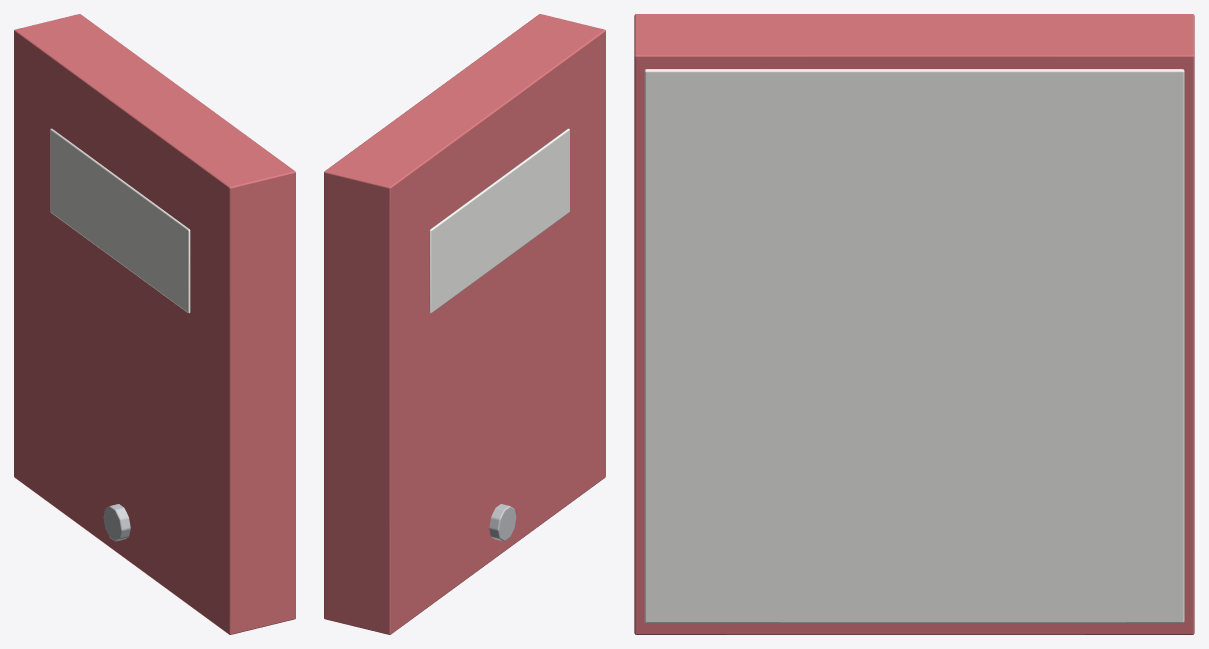
The model's file is SM_BinderRed.fbx.
The picture shows the model from 3 angles, left to right: view 1: azimuth 30°, elevation 25°; view 2: azimuth 150°, elevation 25°; view 3: azimuth 270°, elevation 25°; orthographic projection. The views are drawn at different scales.
Parts seen in each view (by area): view 1: SM_BinderRed; view 2: SM_BinderRed; view 3: SM_BinderRed.
Part boxes in pixels (x1=…): SM_BinderRed: x1=14, y1=14, x2=295, y2=634; SM_BinderRed: x1=324, y1=14, x2=605, y2=634; SM_BinderRed: x1=634, y1=14, x2=1194, y2=634.
Bounding box in the file's own units: 0.059 × 0.32 × 0.28.
